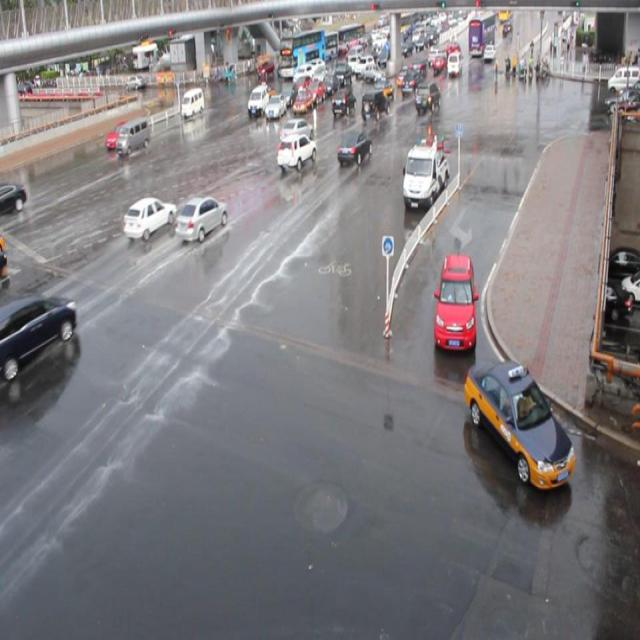bus: (401, 135, 448, 203)
car: (463, 357, 575, 487), (1, 292, 77, 368), (432, 253, 477, 350), (174, 195, 228, 241), (122, 196, 176, 240), (276, 132, 316, 170), (336, 130, 371, 164), (278, 117, 313, 146), (360, 88, 389, 120), (412, 81, 440, 112), (104, 120, 132, 148), (331, 88, 356, 116), (291, 85, 312, 112), (251, 81, 275, 104), (264, 90, 286, 115), (305, 75, 324, 99), (279, 79, 298, 101), (292, 70, 310, 92)
truck: (115, 118, 151, 156), (181, 87, 204, 117), (248, 83, 270, 114)
